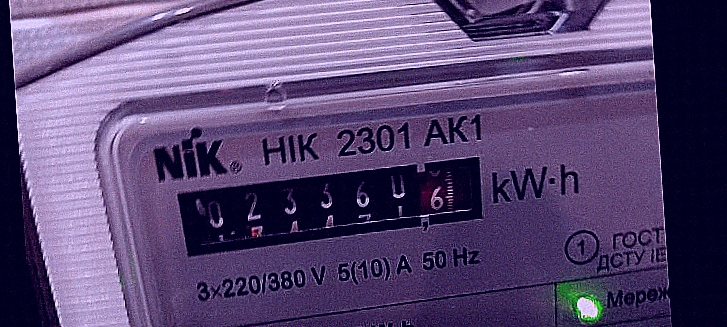0: (203, 195, 227, 230), (384, 169, 408, 201)
2: (241, 187, 263, 222)
3: (315, 176, 336, 210), (277, 184, 298, 216)
6: (425, 179, 448, 214), (350, 175, 373, 209)
screen: (159, 146, 502, 263)
